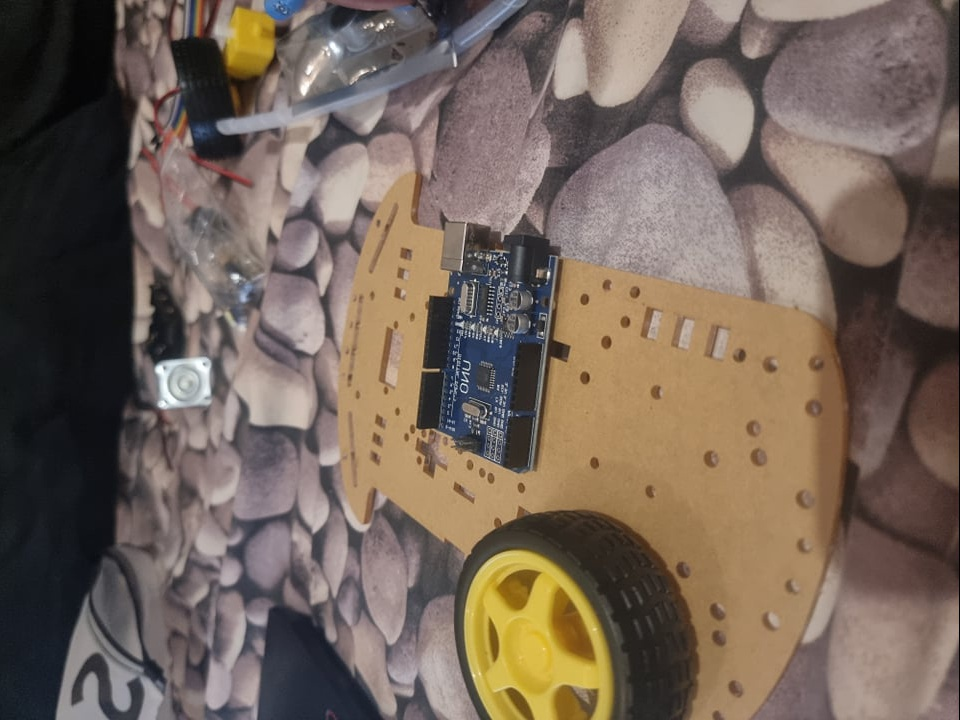5V EXPANSION: (418, 220, 557, 480)
BATTERY BOX: (141, 280, 186, 361)
